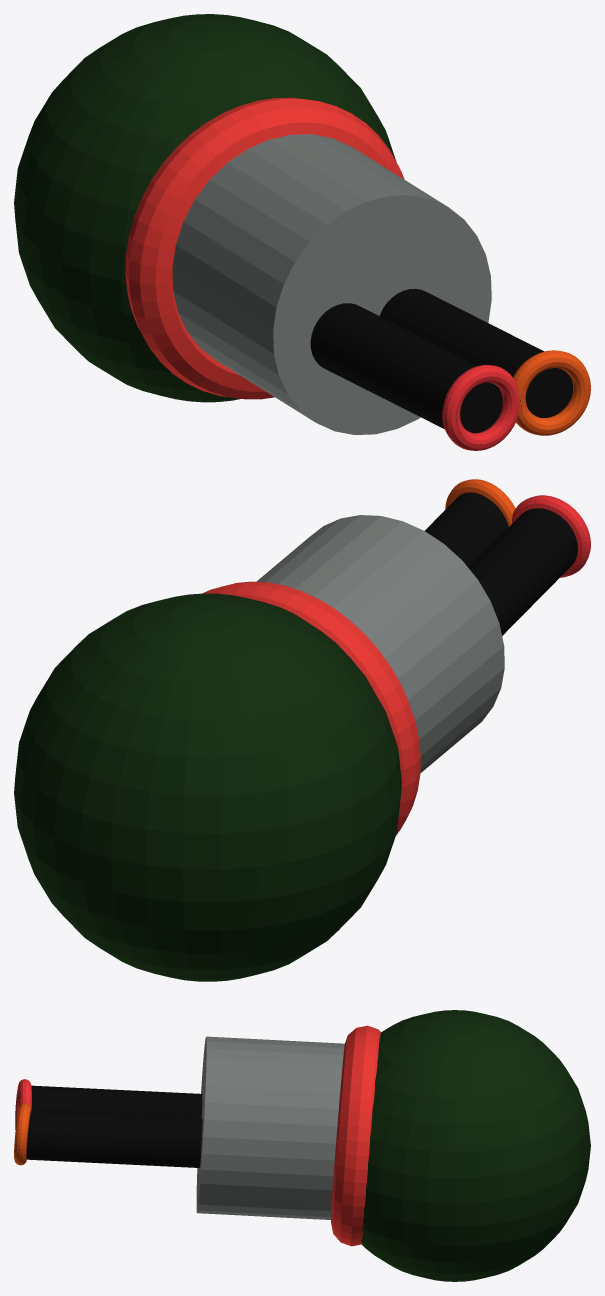
Rendered from BasicTurretHead.fbx.
The picture shows the model from 3 angles, top to bottom: view 1: azimuth 30°, elevation 25°; view 2: azimuth 150°, elevation 25°; view 3: azimuth 270°, elevation 25°; orthographic projection. The views are drawn at different scales.
Visible parts, largest first — view 1: Cylinder; view 2: Cylinder; view 3: Cylinder.
Boxes of the visible parts, <box> form: Cylinder: <box>14,14,590,450</box>; Cylinder: <box>14,479,590,981</box>; Cylinder: <box>14,1010,590,1281</box>.
Bounding box in the file's own units: 134 × 134 × 284.
